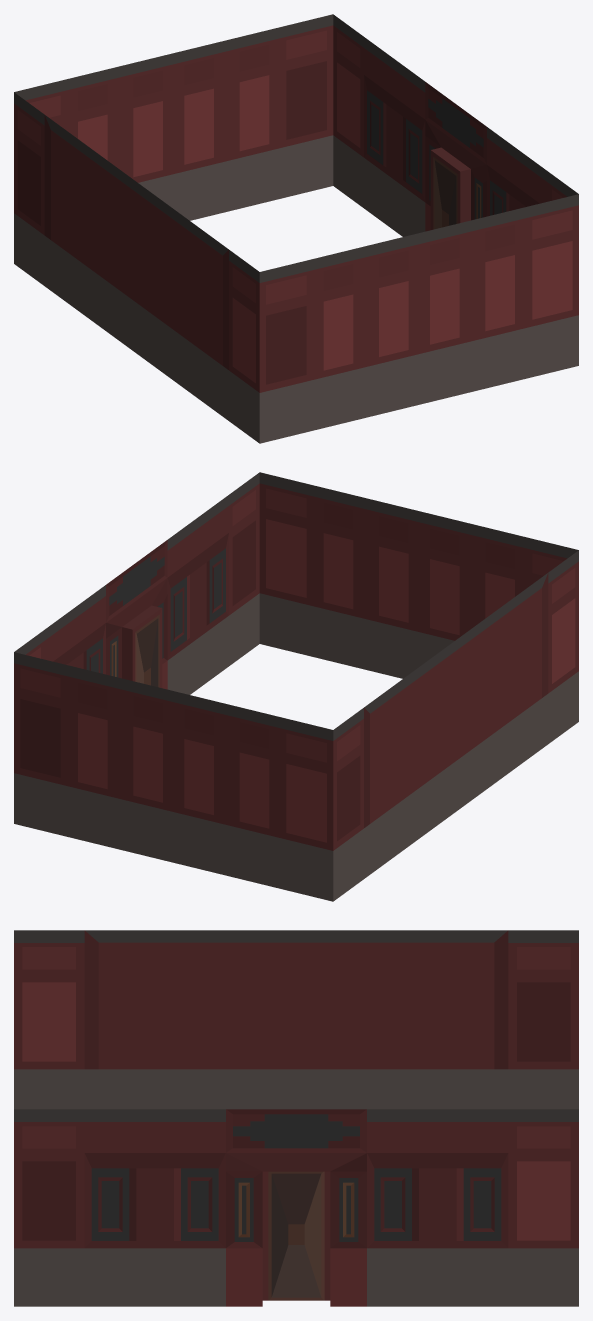
File: BuildingA-Sm_DLOD1.fbx
3 renders of one model, top to bottom at view 1: azimuth 30°, elevation 25°; view 2: azimuth 150°, elevation 25°; view 3: azimuth 270°, elevation 25°, orthographic. The views are drawn at different scales.
Parts seen in each view (by area): view 1: BuildingA-Sm_DLOD1; view 2: BuildingA-Sm_DLOD1; view 3: BuildingA-Sm_DLOD1.
Part boxes in pixels (left/top/right/bottom): BuildingA-Sm_DLOD1: left=14, top=14, right=578, bottom=443; BuildingA-Sm_DLOD1: left=14, top=472, right=578, bottom=901; BuildingA-Sm_DLOD1: left=14, top=930, right=578, bottom=1306.
Size of the model in its own units: 750 by 386 by 1000.
